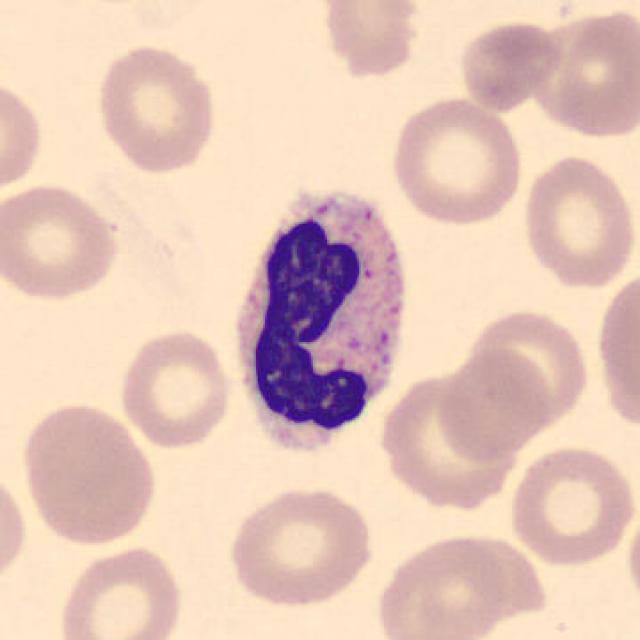Neutrophil: (220, 182, 422, 472)
RBC: (16, 398, 160, 548), (375, 365, 521, 511), (224, 483, 377, 608), (455, 303, 597, 434), (388, 94, 526, 228), (371, 529, 537, 640), (90, 40, 220, 176), (505, 440, 636, 568), (518, 150, 636, 291), (526, 3, 640, 143), (0, 179, 124, 303), (116, 326, 234, 452), (434, 344, 554, 464), (53, 541, 187, 640), (455, 16, 564, 113), (592, 261, 638, 439), (324, 0, 419, 82), (0, 74, 46, 198), (0, 464, 30, 592), (624, 488, 640, 614)
